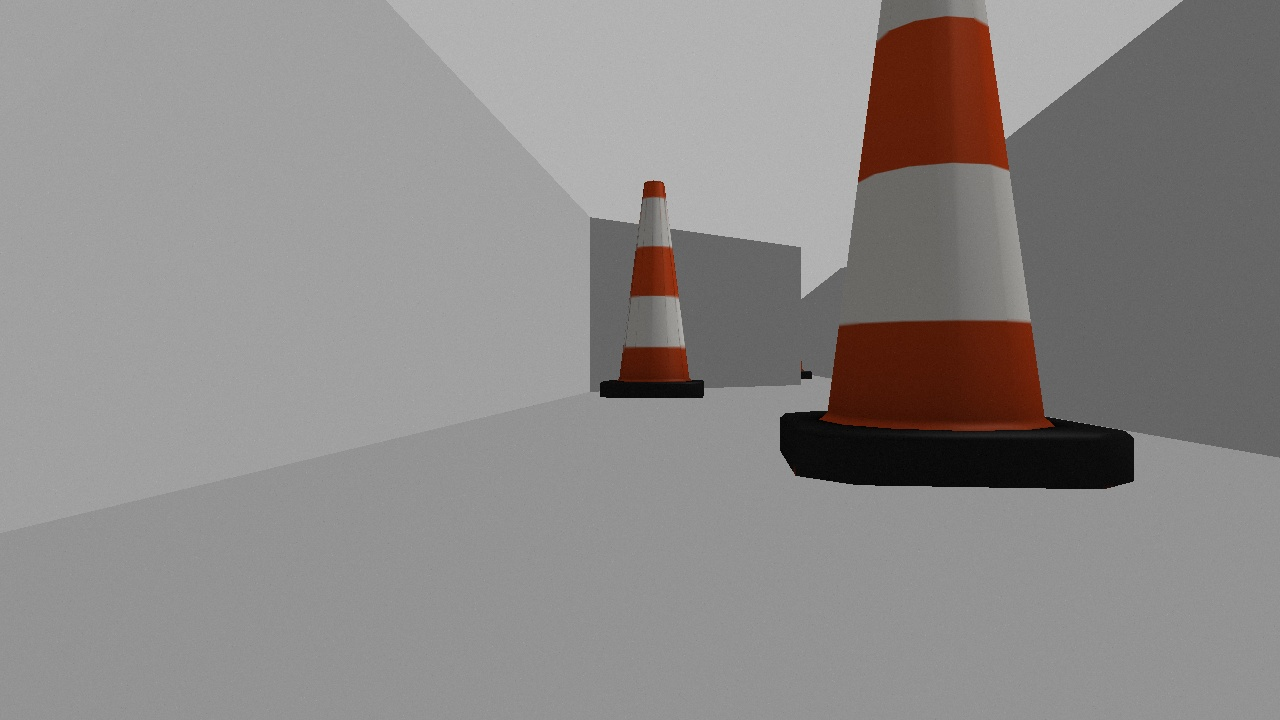barricade: (761, 1, 1154, 500), (595, 173, 712, 403)
